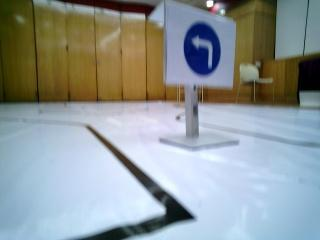left: (171, 8, 232, 88)
